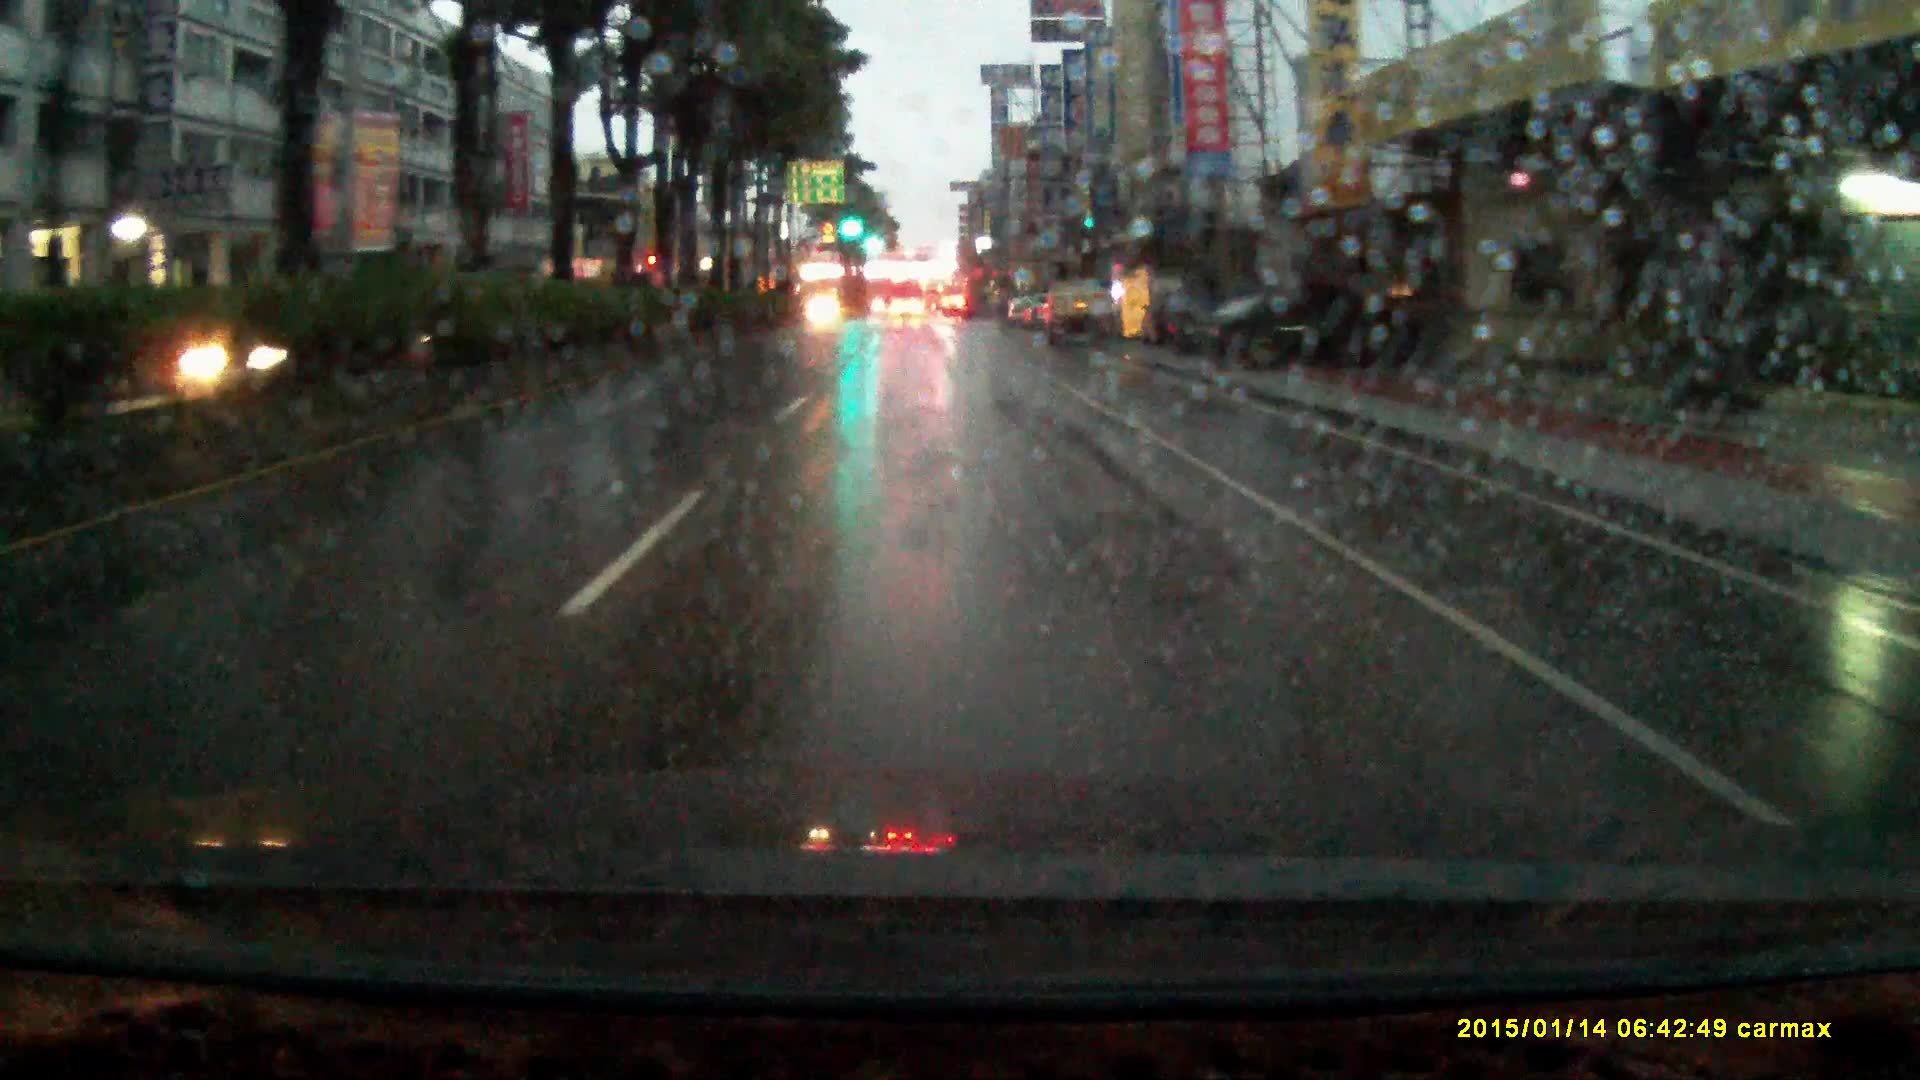vehicle: (1167, 289, 1441, 371), (1139, 291, 1211, 353), (1047, 277, 1112, 342), (804, 299, 844, 334), (889, 298, 927, 324), (922, 280, 944, 313)
